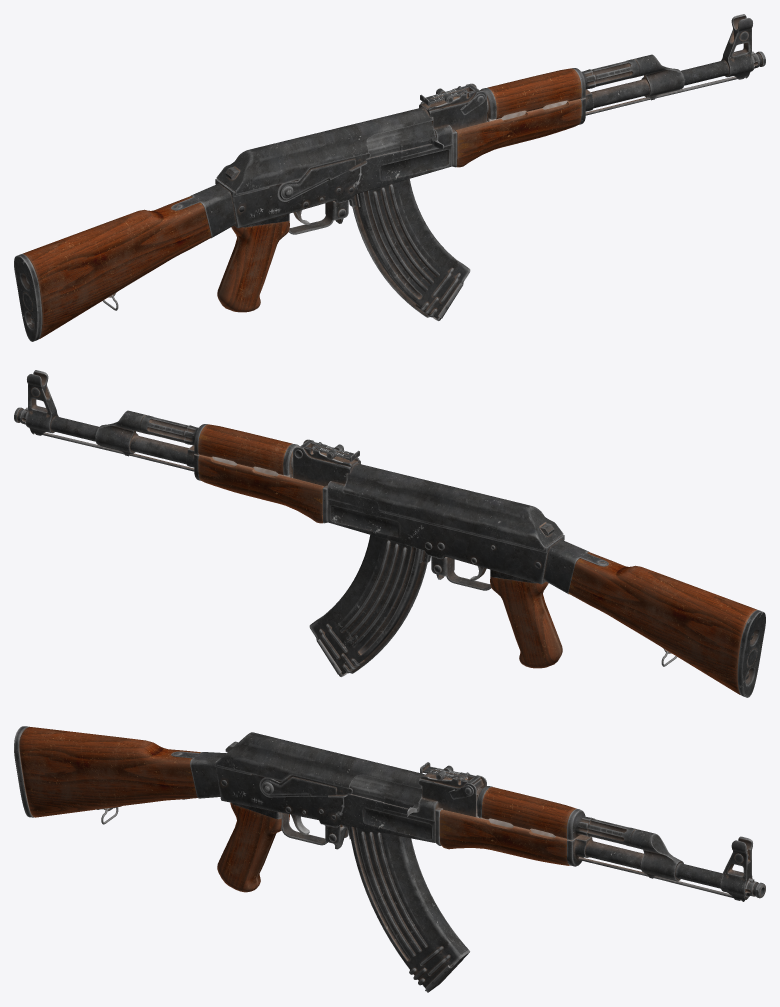
3 renders of one model, top to bottom at view 1: azimuth 30°, elevation 25°; view 2: azimuth 150°, elevation 25°; view 3: azimuth 330°, elevation 25°, orthographic.
Parts seen in each view (by area): view 1: Ak-47; view 2: Ak-47; view 3: Ak-47.
Boxes of the visible parts, bbox=[...] form: Ak-47: bbox=[14, 14, 765, 341]; Ak-47: bbox=[14, 370, 765, 697]; Ak-47: bbox=[14, 726, 765, 992].
Size of the model in its own units: 4.89 by 1.41 by 0.3181.
2 materials, 2 textured.
